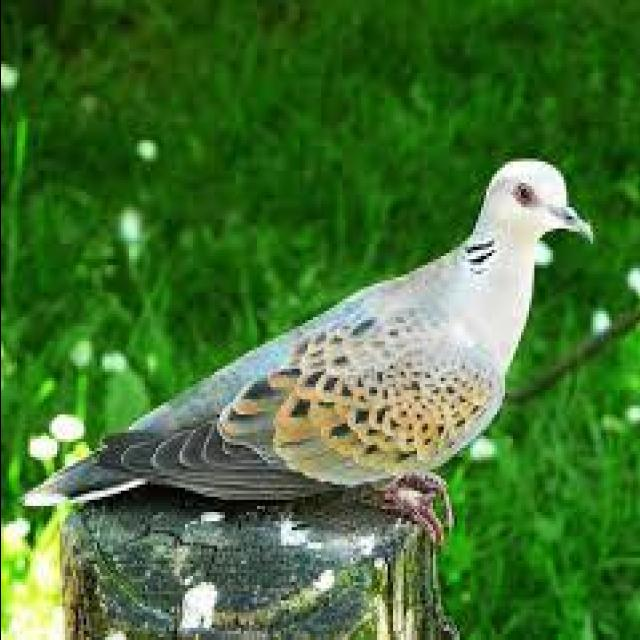pigeon: (29, 148, 597, 510)
